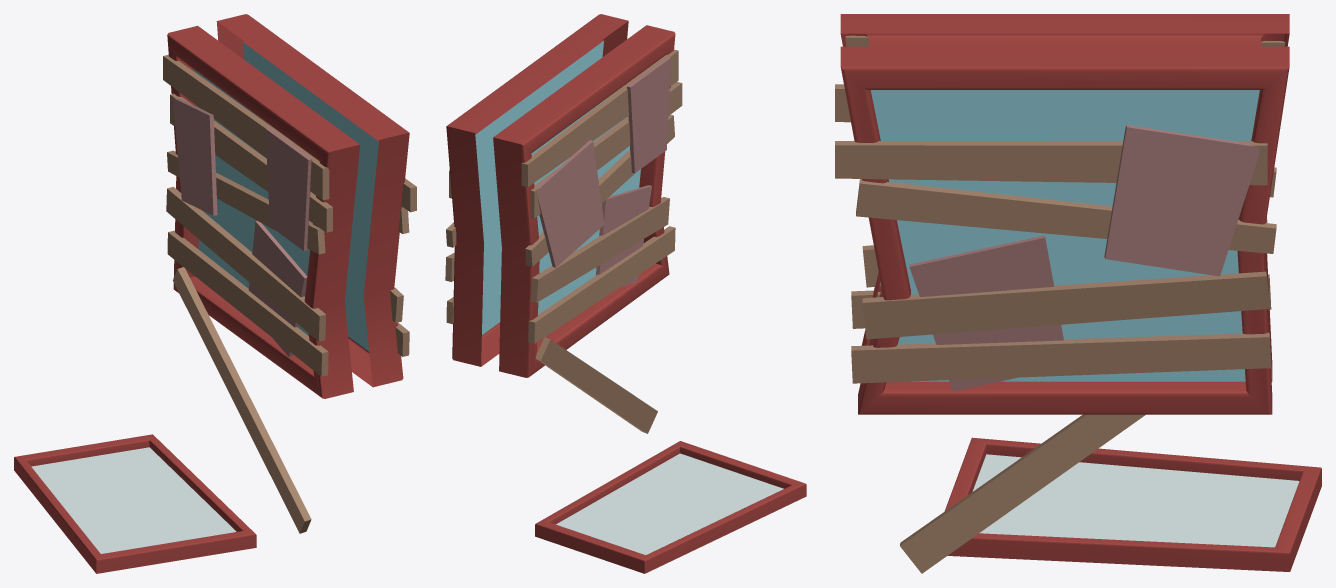
File: Kut_Raam_Variatie_01.fbx
3 views of the same model, side by side, from view 1: azimuth 30°, elevation 25°; view 2: azimuth 150°, elevation 25°; view 3: azimuth 270°, elevation 25° (orthographic). The views are drawn at different scales.
Visible parts, largest first — view 1: KUTRaam_Variatie_01; view 2: KUTRaam_Variatie_01; view 3: KUTRaam_Variatie_01.
Boxes of the visible parts, <box> form: KUTRaam_Variatie_01: <box>14,14,416,573</box>; KUTRaam_Variatie_01: <box>445,14,806,573</box>; KUTRaam_Variatie_01: <box>835,14,1321,573</box>.
Size of the model in its own units: 3.69 by 5.06 by 3.93.
